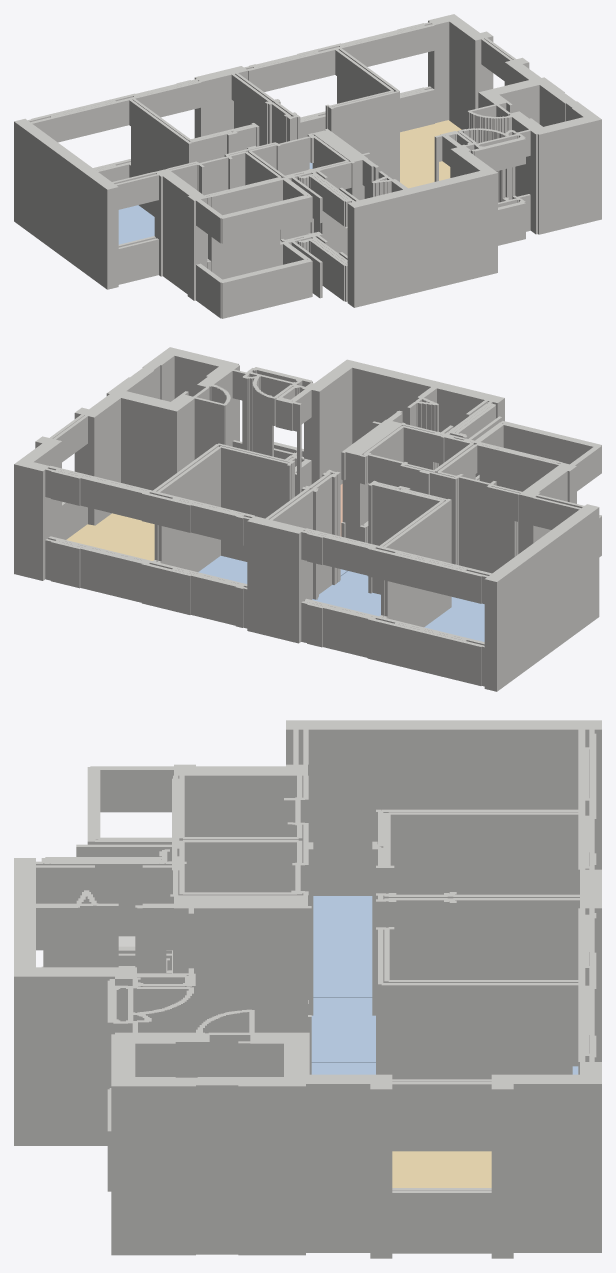
3 views of the same model, one above another, from view 1: azimuth 30°, elevation 25°; view 2: azimuth 150°, elevation 25°; view 3: azimuth 270°, elevation 25° (orthographic). The views are drawn at different scales.
Visible parts, largest first — view 1: walls, room:living:4, room:bedroom:0; view 2: walls, room:living:4, room:bedroom:2, room:bedroom:0, room:bedroom:3; view 3: walls, room:bedroom:0, room:bedroom:2, room:living:4, room:bedroom:3.
Part boxes in pixels (bbox=[...]): walls: bbox=[14, 14, 601, 318]; room:living:4: bbox=[400, 120, 461, 188]; room:bedroom:0: bbox=[118, 205, 154, 244]; walls: bbox=[14, 347, 601, 691]; room:living:4: bbox=[66, 513, 154, 560]; room:bedroom:2: bbox=[312, 571, 380, 616]; room:bedroom:0: bbox=[424, 597, 484, 641]; room:bedroom:3: bbox=[198, 556, 347, 583]; walls: bbox=[14, 720, 601, 1258]; room:bedroom:0: bbox=[313, 896, 372, 997]; room:bedroom:2: bbox=[311, 997, 375, 1062]; room:living:4: bbox=[392, 1151, 491, 1187]; room:bedroom:3: bbox=[311, 1063, 578, 1074].
Size of the model in its own units: 13.09 by 2.8 by 8.82.
